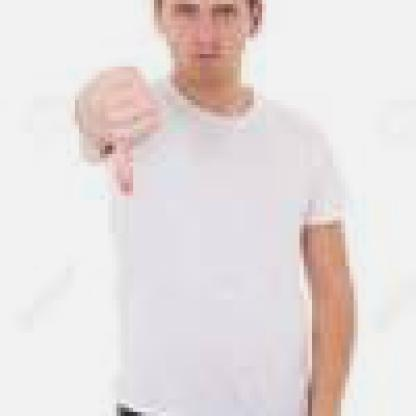Thumbs Down: (43, 62, 177, 196)
